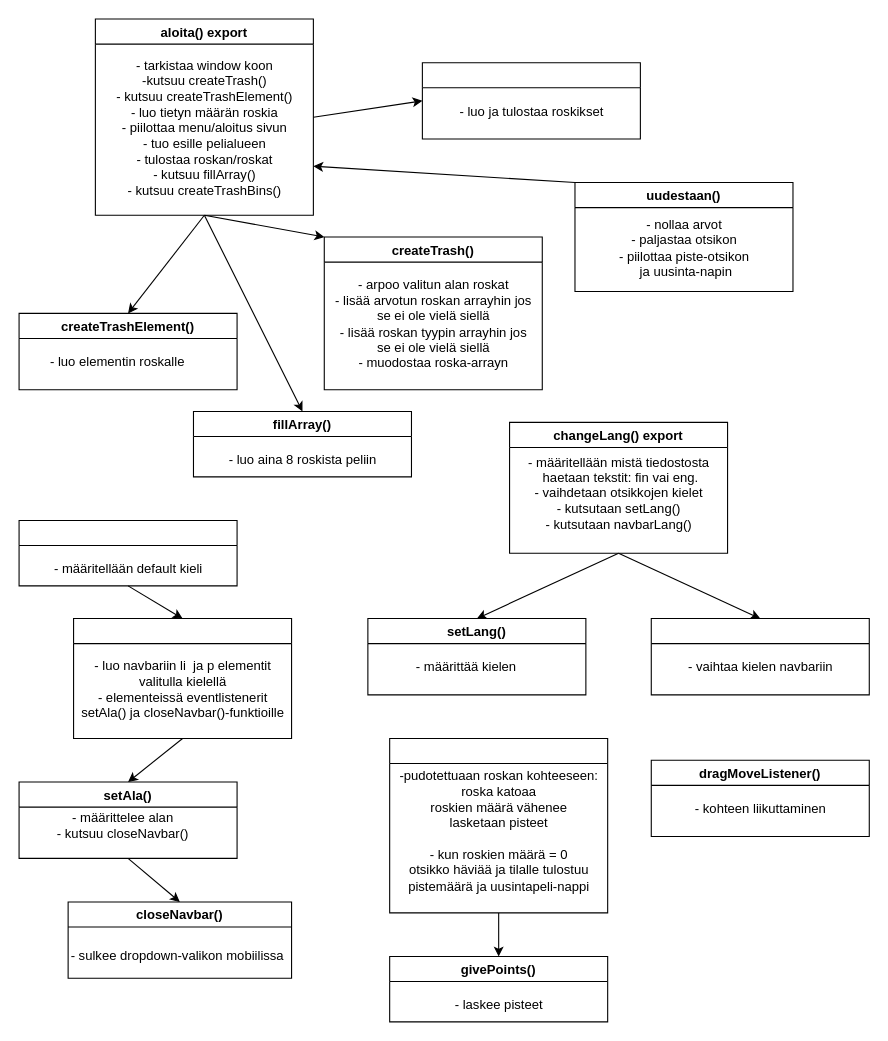
Some shapes in this 888 by 1041 pixel diagram are drawn without their labels. Each missing label, with the box of its shape:
createNavbar(): (72, 617, 292, 738)
createTrashBins(): (421, 62, 640, 139)
init(): (18, 519, 237, 586)
navbarLang(): (650, 617, 869, 695)
ondrop: function: (389, 737, 608, 913)
